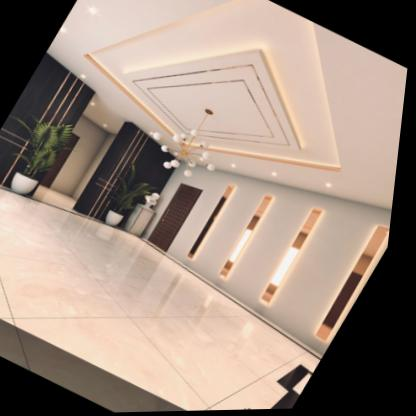Ceramic floor: (0, 194, 313, 412)
Gypsum Board: (11, 0, 416, 269)
